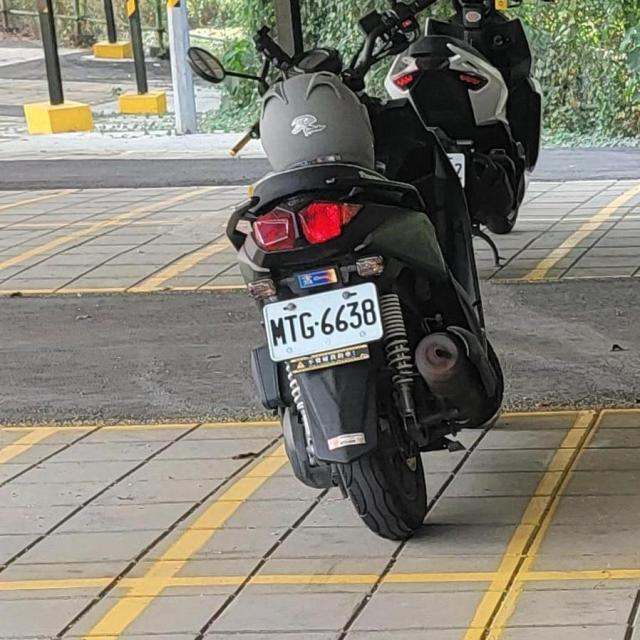W: (256, 282, 388, 364)
